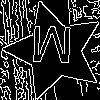M: (29, 25, 74, 72)
